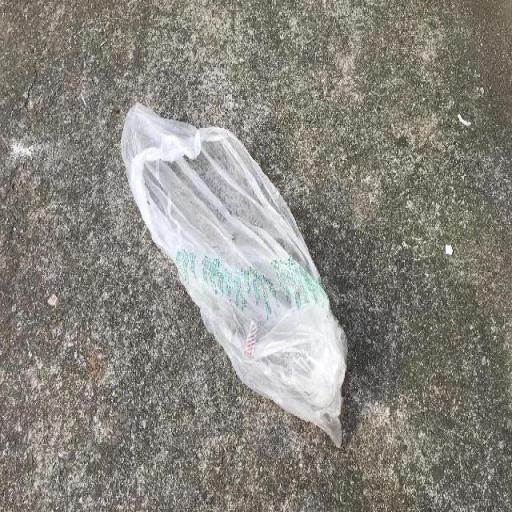plastic-bag: (116, 97, 350, 452)
